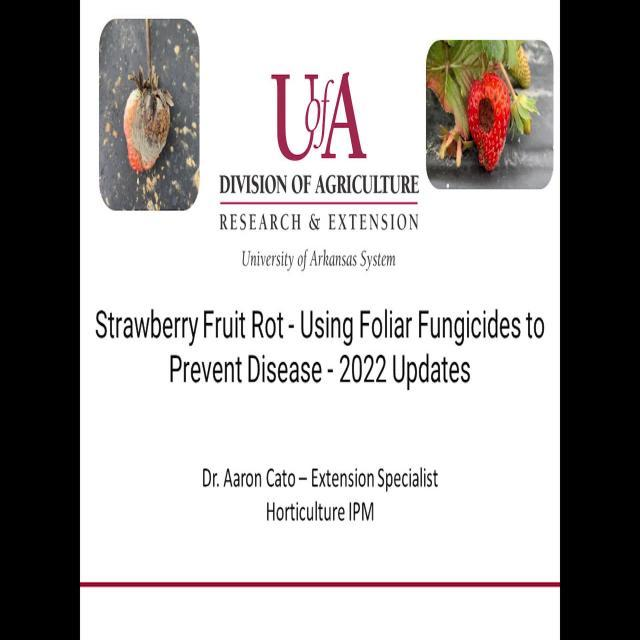Mancha negra Antracnosis: (464, 65, 514, 174)
Moho gris: (124, 69, 176, 184)
